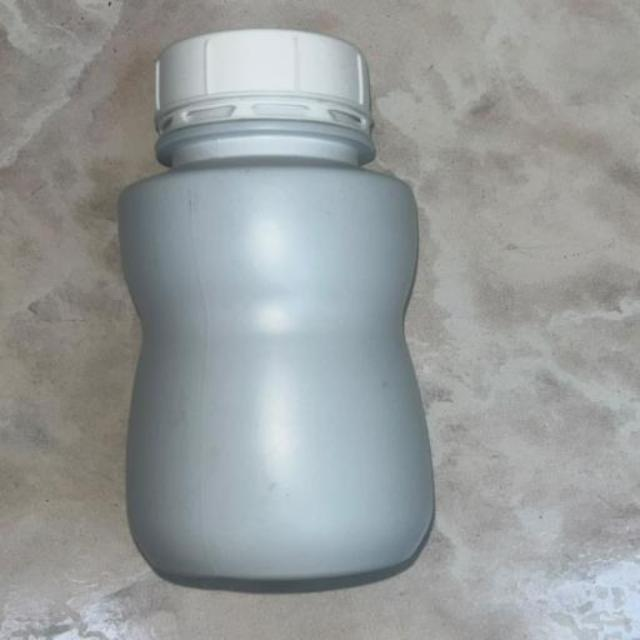HDPE: (46, 24, 546, 582)
